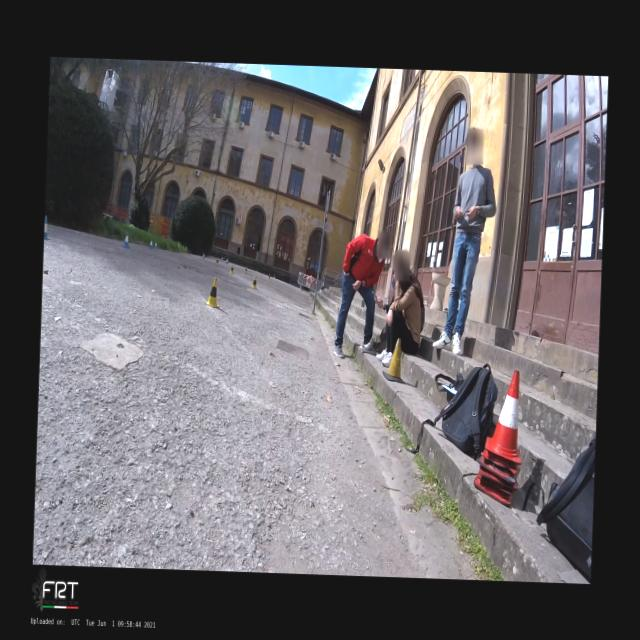blue_cone: (120, 230, 130, 248), (44, 214, 50, 240), (148, 238, 152, 249), (153, 240, 157, 249), (201, 252, 204, 259)
orange_cone: (484, 368, 524, 465)
unknown_cone: (381, 337, 406, 383)
yellow_cone: (203, 276, 220, 308), (250, 275, 257, 288), (228, 264, 233, 274), (214, 256, 218, 266), (244, 266, 246, 274)
